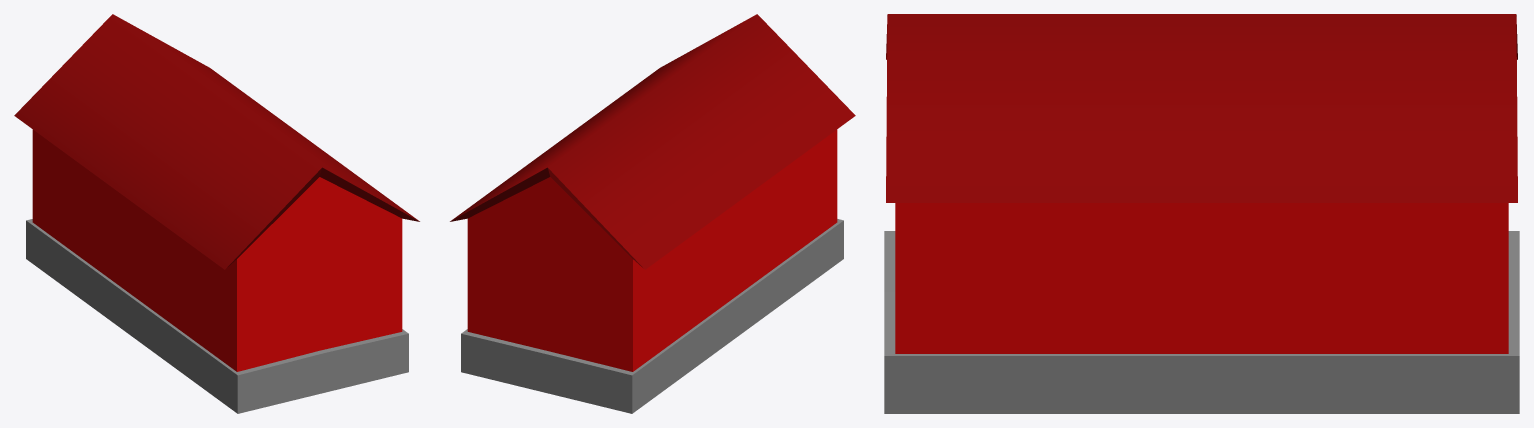
Rendered from house_4.fbx.
3 views of the same model, side by side, from view 1: azimuth 30°, elevation 25°; view 2: azimuth 150°, elevation 25°; view 3: azimuth 270°, elevation 25° (orthographic). The views are drawn at different scales.
Visible parts, largest first — view 1: pCube3; view 2: pCube3; view 3: pCube3.
Part boxes in pixels (x1,y1,x2,y2): pCube3: (14,14,419,413); pCube3: (450,14,855,413); pCube3: (884,14,1519,413).
Bounding box in the file's own units: 56.53 × 62 × 106.
